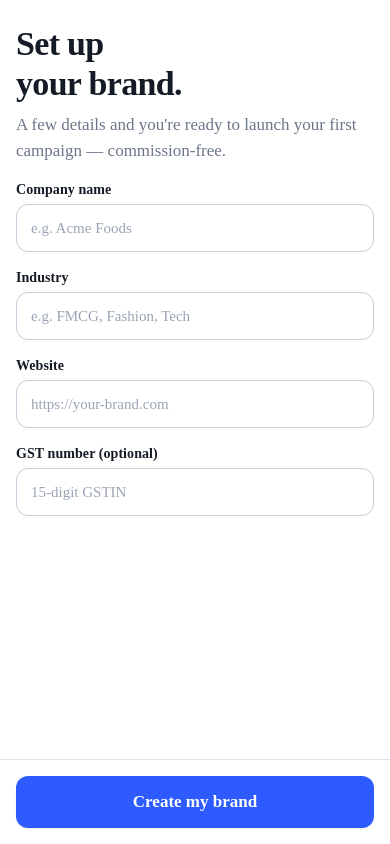
BrandOnboardingScreen (A5) › criterion 2 — incomplete form surfaces an inline error and does not submit
Expected: the field with test id "input-company" is shown, [16,204,374,252]
Click the button with test id "btn-save" at [195, 802], box [16,776,374,828]
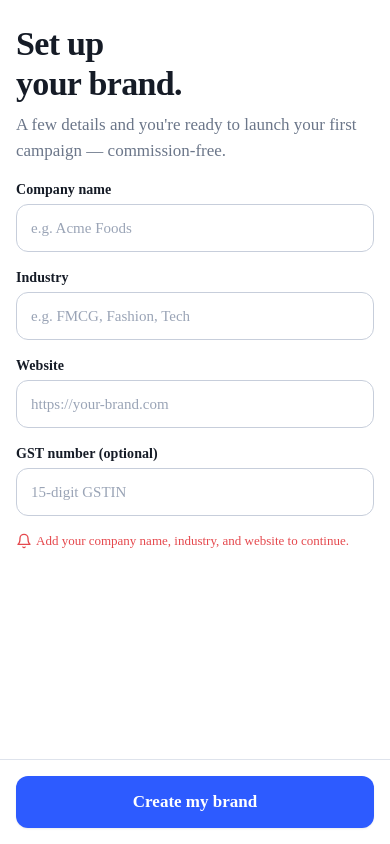
Expected: the element with test id "error-form" is shown, [16,532,374,550]
